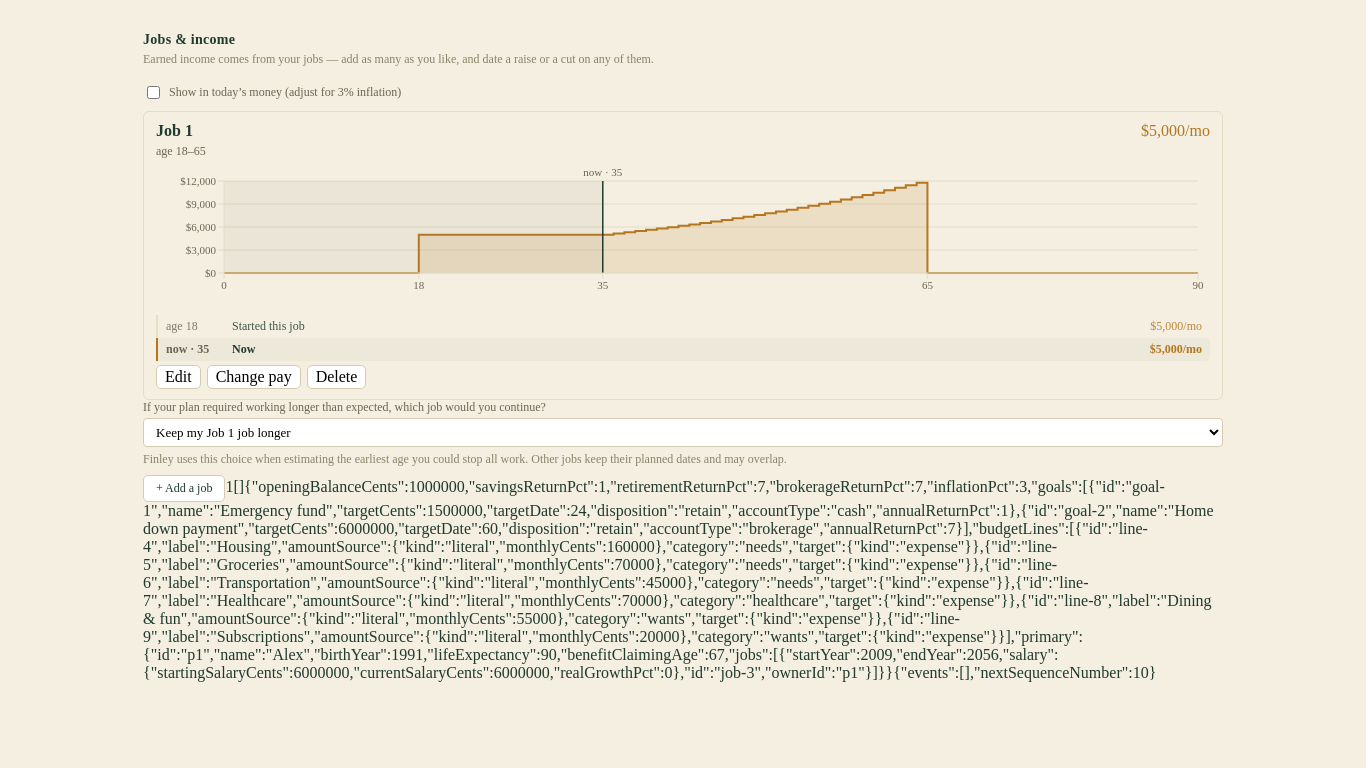
Test case: JobsPanel — add / edit / delete › edits a job's salary in place
The width and height of the screenshot is (1366, 768).
Click the button with aria-label "Edit Job 1".
click(178, 377)  # box [156,365,201,389]
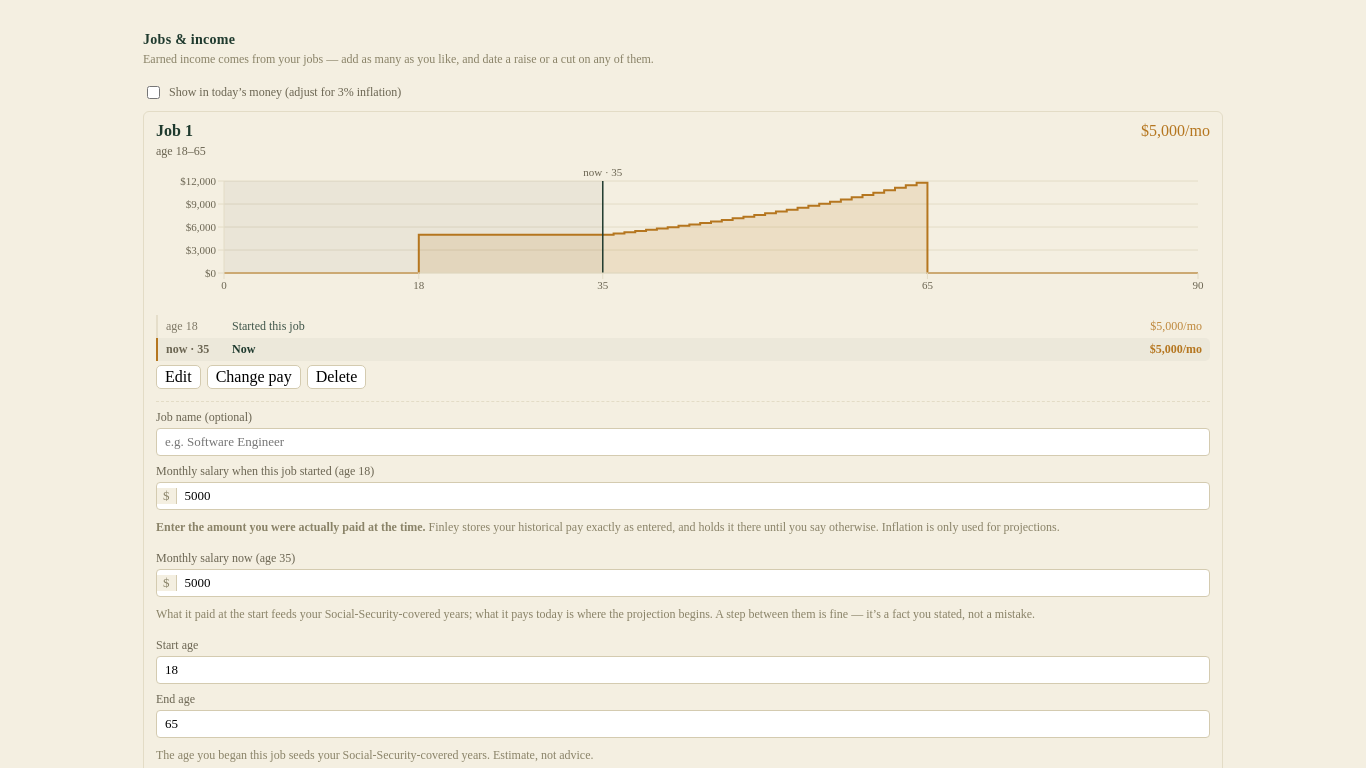
Replace the text in the number field labelled "Monthly salary now (age 35) $" with "8000" at (693, 583), box [176,570,1209,596]
(page scrolled)
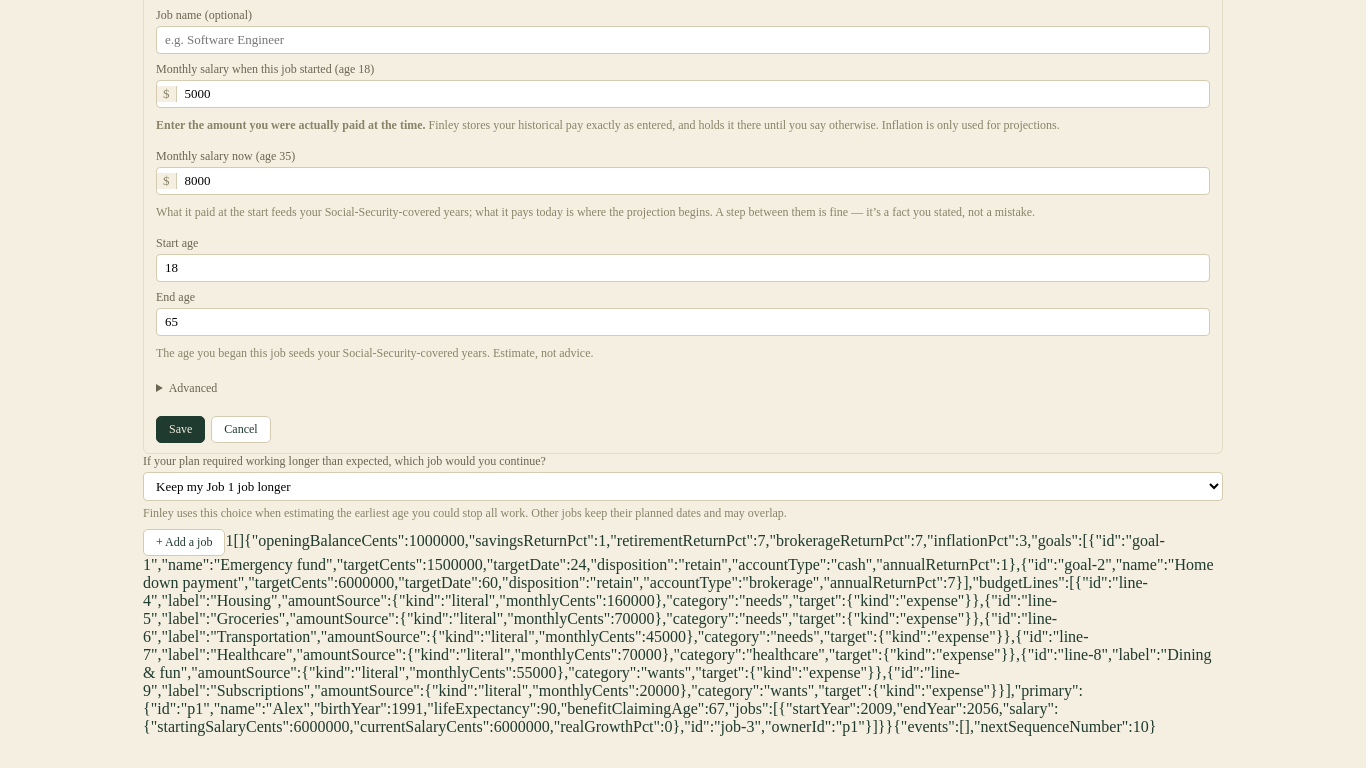
Click the button "Save".
click(181, 430)  # box [156,416,205,443]
(page scrolled)
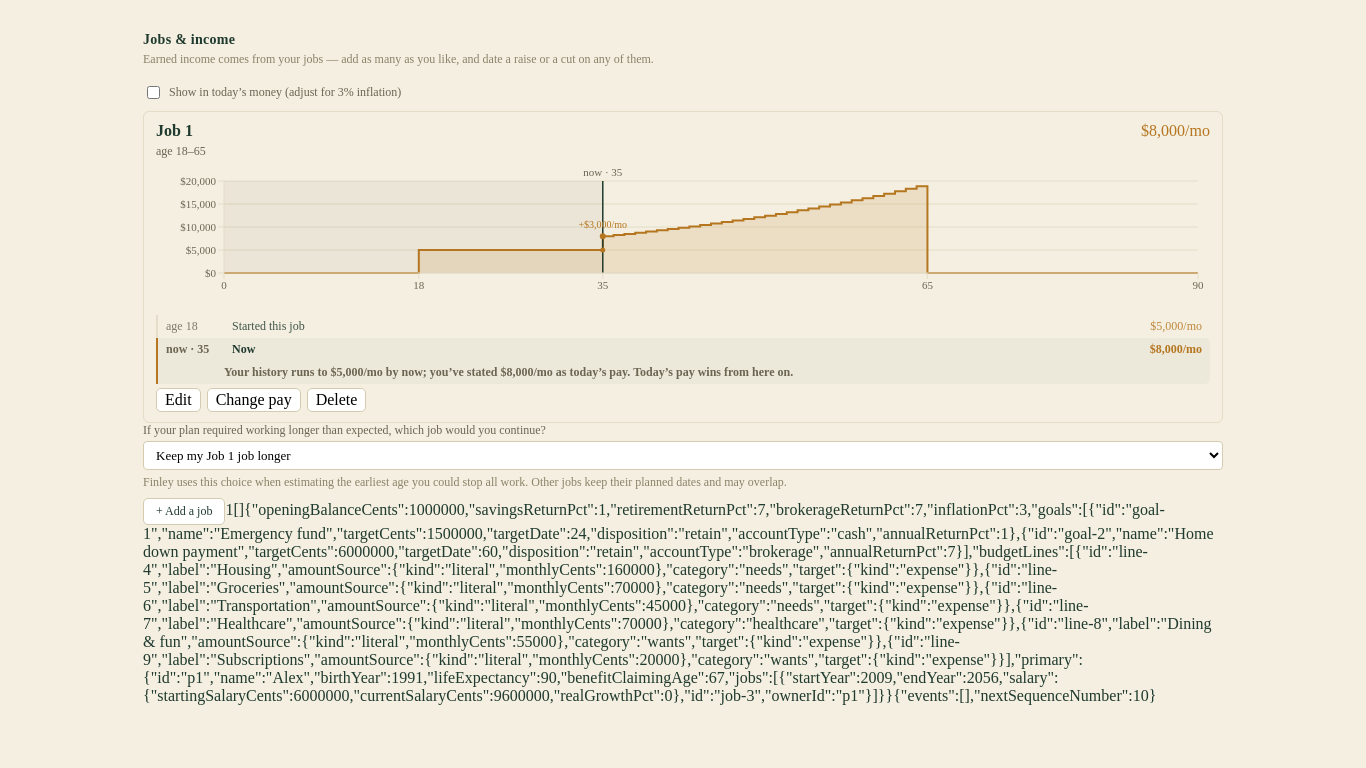
Now the 1st text titled "Current pay" reads "$8,000/mo", box [1141,122,1210,140]
